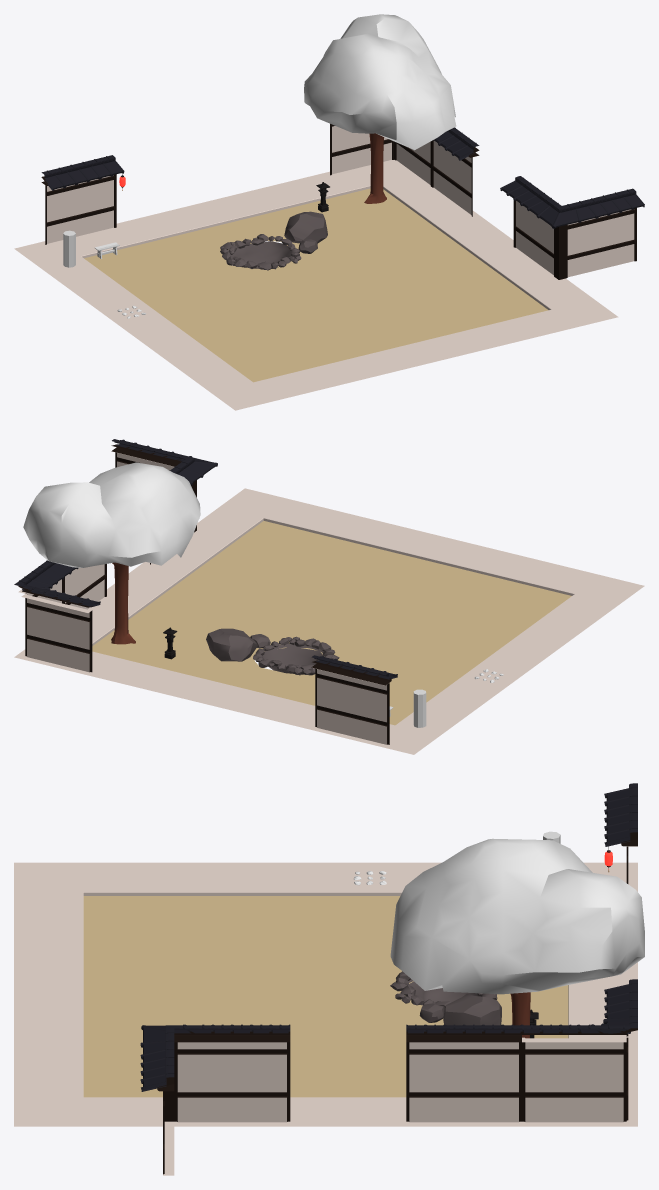
The model's file is courtyard_props.fbx.
3 views of the same model, one above another, from view 1: azimuth 30°, elevation 25°; view 2: azimuth 150°, elevation 25°; view 3: azimuth 270°, elevation 25° (orthographic). The views are drawn at different scales.
Parts seen in each view (by area): view 1: Wall (straight).004, Wall (straight).002, Cube, Wall (straight).005, Wall (straight), Wall (straight).001, Wall (straight).003, pond, large rock, Cylinder; view 2: Wall (straight).004, Wall (straight).002, Cube, Wall (straight).001, Wall (straight), pond, Wall (straight).005, Wall (straight).003, large rock, Cylinder, hmn reference; view 3: Wall (straight).004, Wall (straight).002, Cube, Wall (straight).005, Wall (straight).001, Wall (straight).003, Wall (straight), large rock, pond, Cylinder.
Boxes of the visible parts, bbox=[...] form: Wall (straight).004: bbox=[84, 188, 548, 382]; Wall (straight).002: bbox=[14, 160, 618, 410]; Cube: bbox=[304, 14, 456, 150]; Wall (straight).005: bbox=[500, 176, 644, 279]; Wall (straight): bbox=[41, 155, 124, 244]; Wall (straight).001: bbox=[326, 124, 431, 186]; Wall (straight).003: bbox=[431, 127, 479, 216]; pond: bbox=[220, 234, 301, 270]; large rock: bbox=[284, 211, 327, 243]; Cylinder: bbox=[364, 133, 386, 203]; Wall (straight).004: bbox=[92, 521, 571, 725]; Wall (straight).002: bbox=[14, 488, 644, 754]; Cube: bbox=[23, 462, 200, 567]; Wall (straight).001: bbox=[14, 560, 100, 675]; Wall (straight): bbox=[311, 655, 397, 747]; pond: bbox=[253, 636, 339, 675]; Wall (straight).005: bbox=[111, 439, 217, 564]; Wall (straight).003: bbox=[64, 564, 106, 609]; large rock: bbox=[206, 628, 257, 661]; Cylinder: bbox=[111, 562, 135, 644]; hmn reference: bbox=[413, 689, 426, 727]; Wall (straight).004: bbox=[83, 896, 568, 1097]; Wall (straight).002: bbox=[14, 862, 637, 1126]; Cube: bbox=[390, 838, 644, 994]; Wall (straight).005: bbox=[140, 1024, 290, 1175]; Wall (straight).001: bbox=[522, 979, 637, 1126]; Wall (straight).003: bbox=[406, 1024, 521, 1122]; Wall (straight): bbox=[604, 783, 637, 891]; large rock: bbox=[443, 993, 501, 1025]; pond: bbox=[390, 971, 497, 1007]; Cylinder: bbox=[510, 992, 530, 1038].
Bounding box in the file's own units: 2553 × 990 × 2177.
